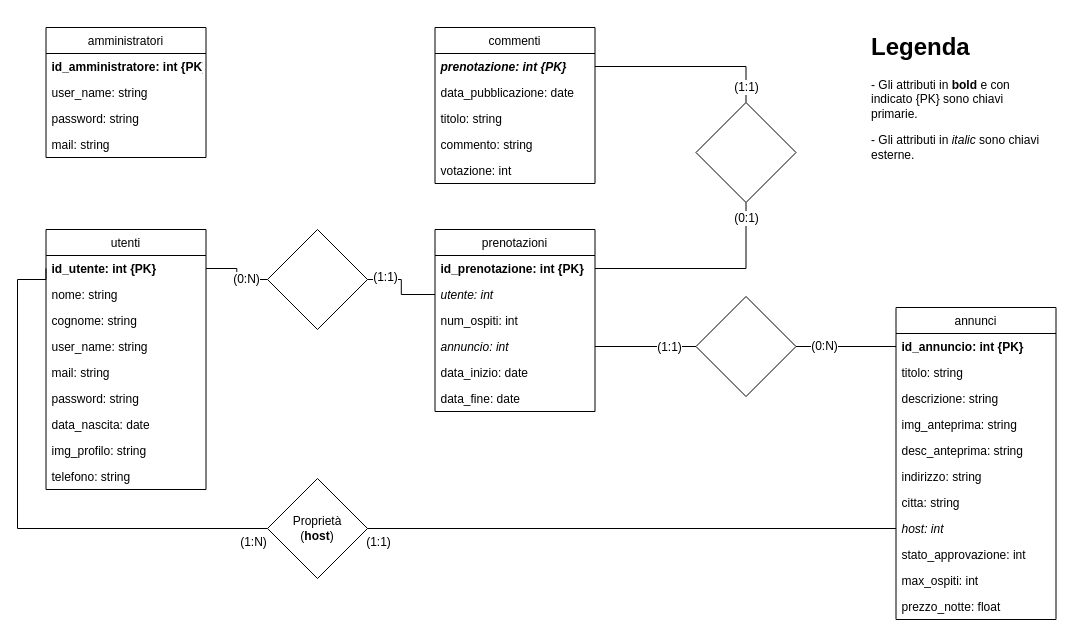
The diagram is 1074 pixels wide and 639 high, and some of its shapes have lost their labels. Here are the shapes that lost their labels. From the top down, the centre of each, then its label:
At pixel 745 152: "Pubblicazione".
At pixel 317 279: "Effettuazione ( guest )".
At pixel 745 346: "Presso".
